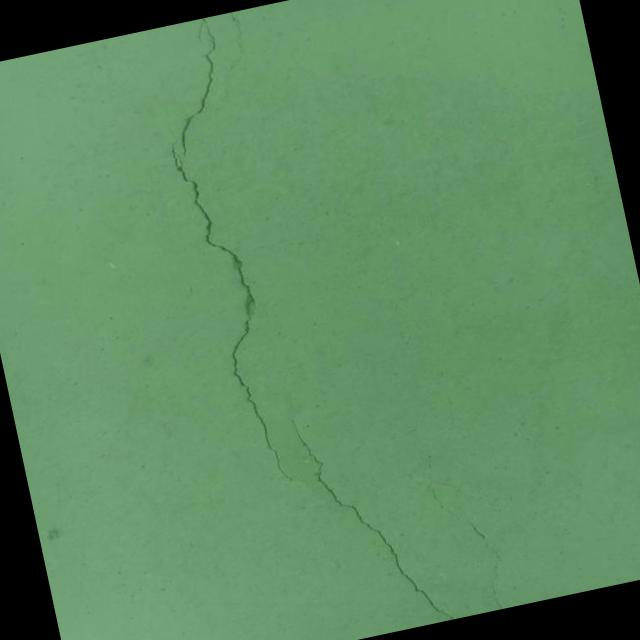crack: (168, 127, 314, 504), (288, 381, 455, 640), (420, 446, 511, 618), (156, 16, 238, 157), (209, 11, 254, 90), (436, 397, 462, 447)
